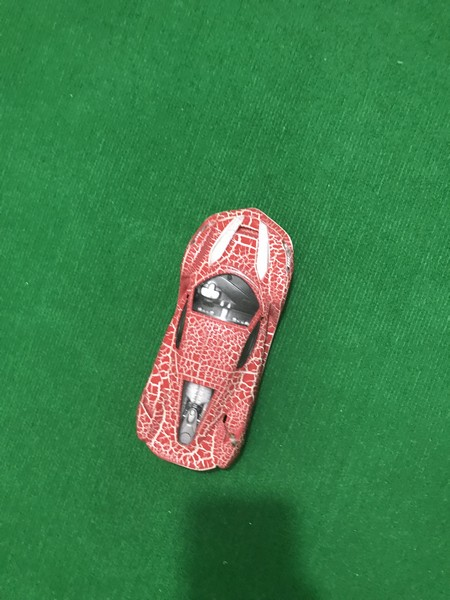RC: (133, 204, 298, 473)
